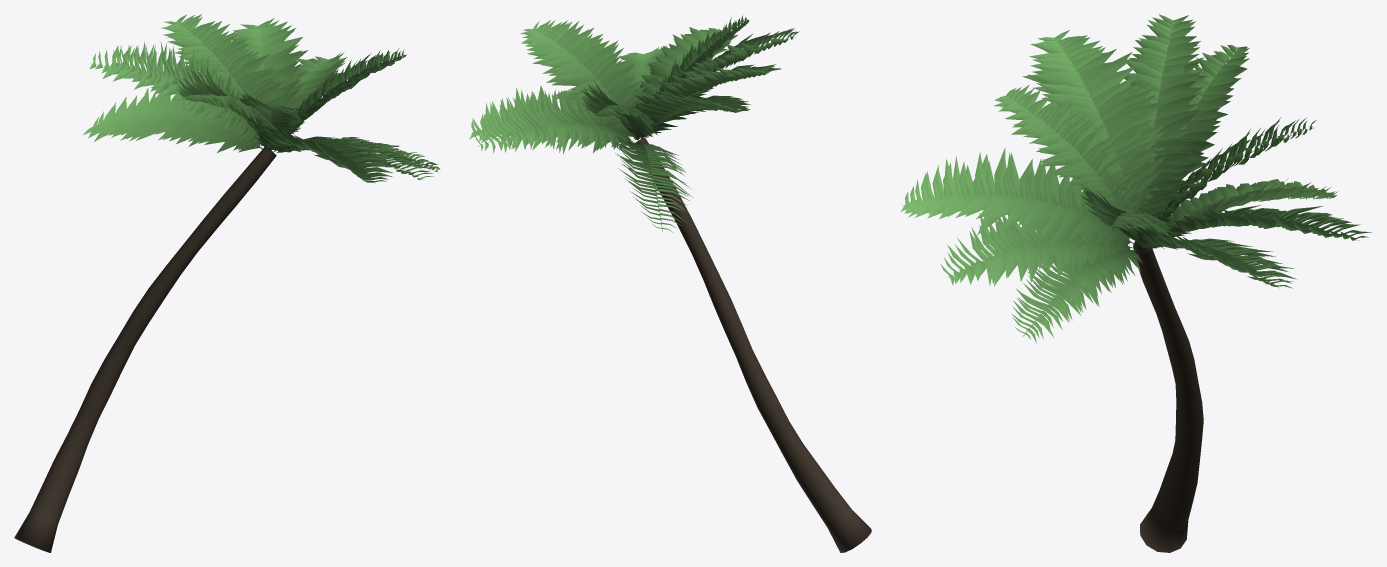
File: SM_Palm_03_Leaning.fbx
3 views of the same model, side by side, from view 1: azimuth 30°, elevation 25°; view 2: azimuth 150°, elevation 25°; view 3: azimuth 270°, elevation 25° (orthographic). The views are drawn at different scales.
Parts seen in each view (by area): view 1: SM_Palm_03_Leaning; view 2: SM_Palm_03_Leaning; view 3: SM_Palm_03_Leaning.
Boxes of the visible parts, x1,y1,x2,y2 form: SM_Palm_03_Leaning: (14, 14, 439, 552); SM_Palm_03_Leaning: (469, 14, 871, 552); SM_Palm_03_Leaning: (900, 14, 1371, 552).
Size of the model in its own units: 691 by 850 by 621.
